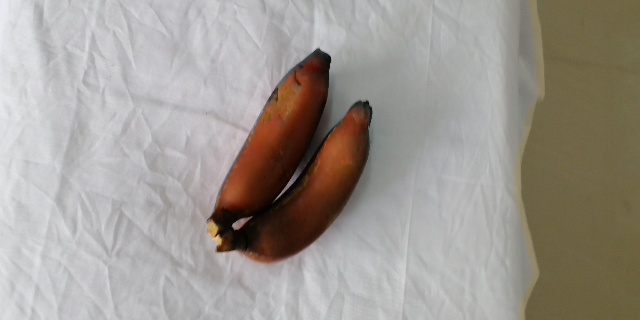banana_red: (221, 100, 371, 270), (210, 49, 327, 227)
